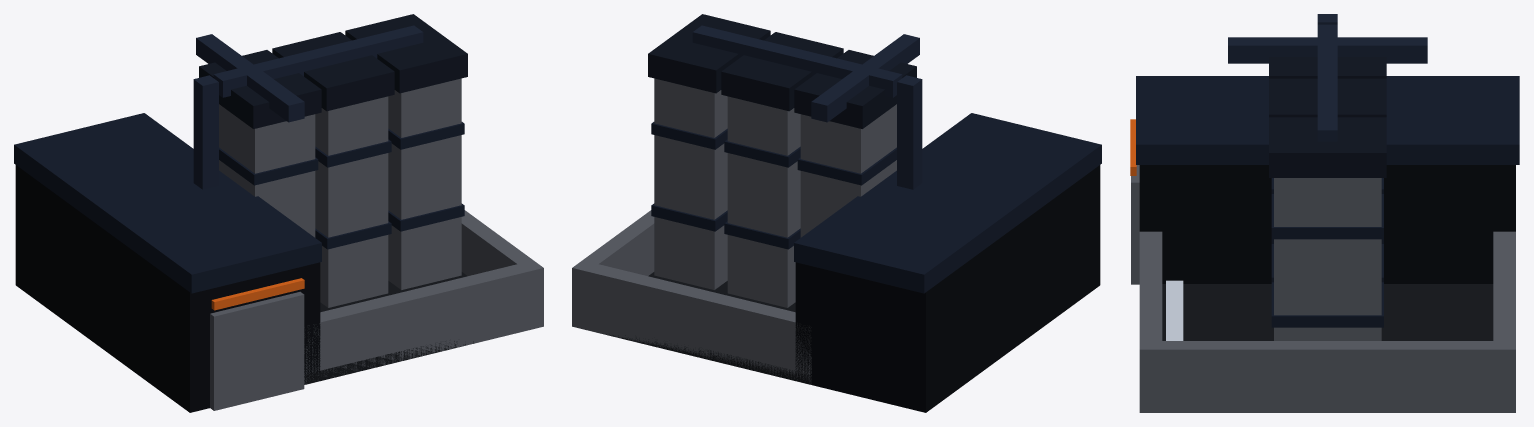
File: works4.obj
The picture shows the model from 3 angles, left to right: view 1: azimuth 30°, elevation 25°; view 2: azimuth 150°, elevation 25°; view 3: azimuth 270°, elevation 25°; orthographic projection. The views are drawn at different scales.
Parts seen in each view (by area): view 1: tanks, pump-roof, pump-house, bund-wall, tank-caps, pipe-bridge, pump-door, tank-bands, base-slab, pump-light; view 2: pump-house, tanks, pump-roof, bund-wall, tank-caps, pipe-bridge, tank-bands, base-slab; view 3: bund-wall, pump-house, pump-roof, tanks, tank-caps, base-slab, pipe-bridge, tank-bands, hazard-marking, pump-door.
Boxes of the visible parts, box(x1,y1,x2,y2) form: tanks: box(219, 78, 461, 307); pump-roof: box(14, 113, 321, 293); pump-house: box(15, 165, 320, 412); bund-wall: box(304, 210, 543, 384); tank-caps: box(199, 14, 467, 128); pipe-bridge: box(193, 25, 423, 189); pump-door: box(210, 291, 304, 410); tank-bands: box(219, 122, 464, 249); base-slab: box(306, 272, 473, 384); pump-light: box(211, 278, 304, 310); pump-house: box(795, 165, 1100, 412); tanks: box(654, 78, 896, 307); pump-roof: box(794, 113, 1101, 293); bund-wall: box(572, 210, 811, 384); tank-caps: box(648, 14, 916, 128); pipe-bridge: box(692, 25, 922, 189); tank-bands: box(651, 122, 896, 249); base-slab: box(601, 272, 809, 384); bund-wall: box(1139, 231, 1515, 412); pump-house: box(1139, 165, 1515, 283); pump-roof: box(1136, 76, 1519, 164); tanks: box(1274, 178, 1381, 340); tank-caps: box(1269, 57, 1386, 177); base-slab: box(1162, 284, 1493, 340); pipe-bridge: box(1228, 14, 1427, 141); tank-bands: box(1271, 178, 1383, 327); hazard-marking: box(1166, 280, 1183, 340); pump-door: box(1131, 165, 1139, 284).
Bounding box in the file's own units: 3.53 × 2.32 × 3.12.
